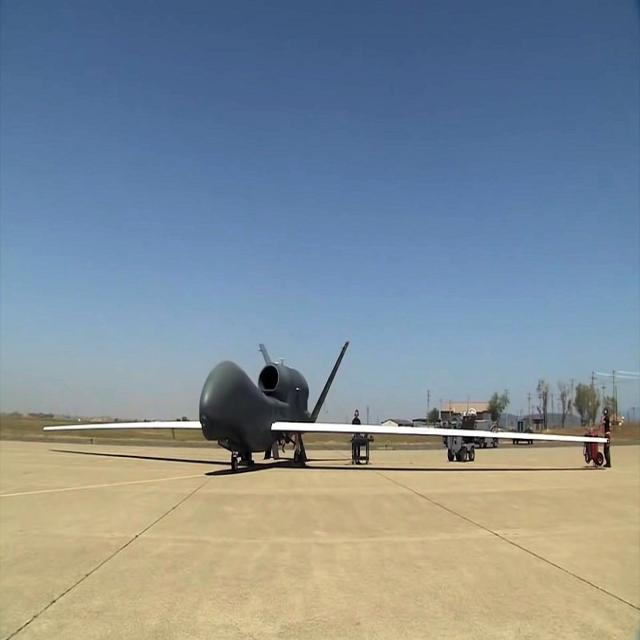MIL_Plane: (42, 340, 610, 472)
